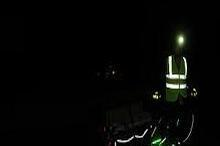Vest: (164, 53, 188, 97)
